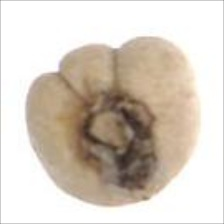L5: (75, 87, 155, 188), (54, 41, 125, 99)
L6: (21, 34, 201, 209)
